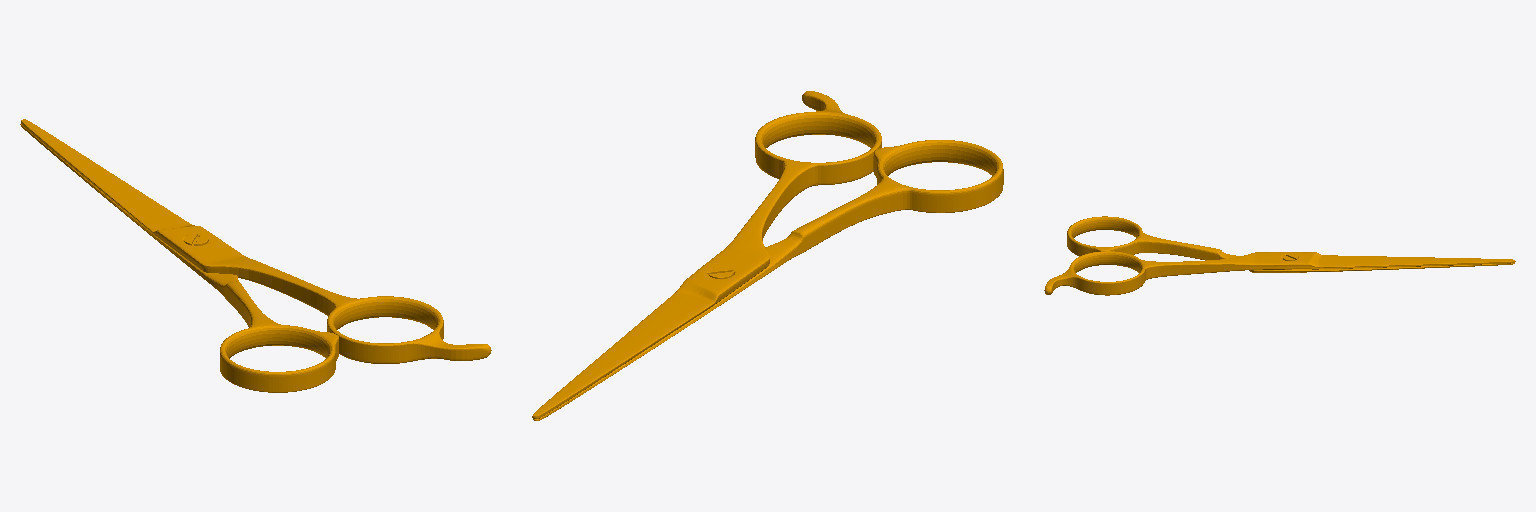
URDF robot description (donut):
<?xml version="1.0"?>
<robot name="donut">

  <link name="base_link">
    <visual>
      <geometry>
        <mesh filename="package://scissors/scissors.stl" scale="0.004 0.004 0.004"/>
      </geometry>
    </visual>
    <collision>
      <geometry>
        <mesh filename="package://scissors/scissors_vhacd.obj" scale="0.004 0.004 0.004" />
      </geometry>
    </collision>
  </link>

</robot>

--- What the picture shows (computed from the rendered views, not written in the file) ---
3 views of the same robot in one strip: view 1: azimuth 30°, elevation 25°; view 2: azimuth 150°, elevation 25°; view 3: azimuth 270°, elevation 25° (orthographic).
Robot: donut — 1 links, 0 joints (none); root link base_link; default pose: all joints at 0.
Visible links, largest first — view 1: base_link; view 2: base_link; view 3: base_link.
Link boxes in pixels (x1,y1,x2,y2): base_link: (20,119,491,392); base_link: (532,91,1003,420); base_link: (1044,216,1515,295).
Size in the robot's own frame: 0.3216 by 0.9124 by 0.0355 metres.
Meshes: 1 distinct files referenced, 1 mesh visuals loaded (1 binary STL).